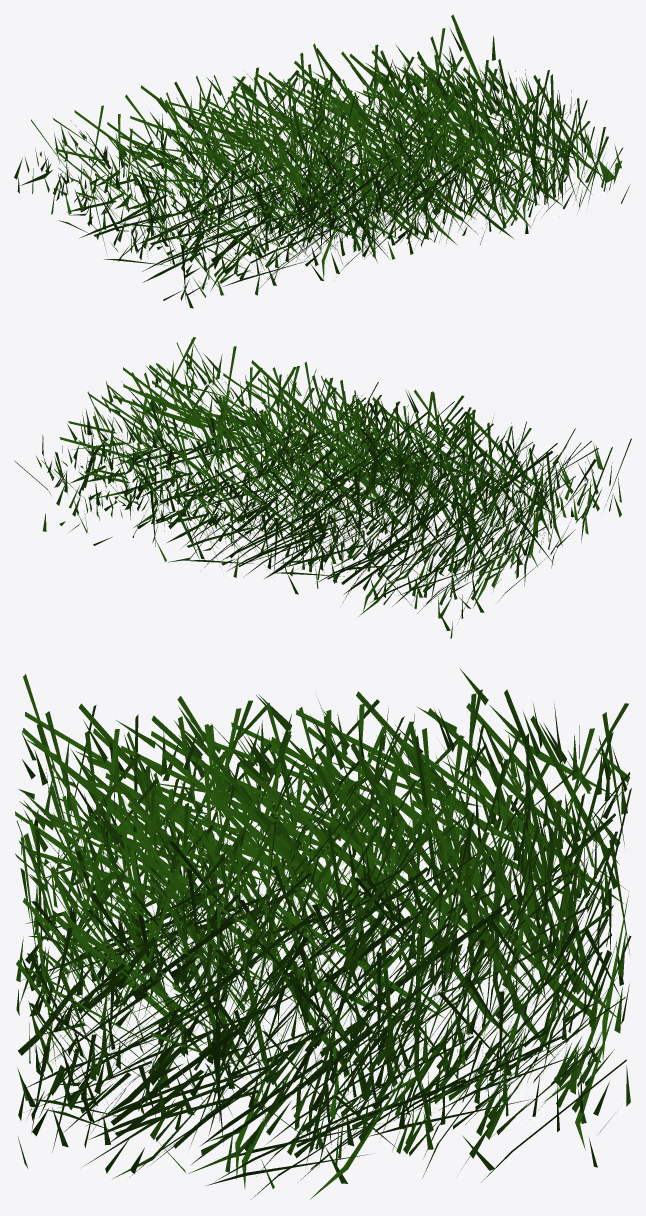
File: grass.DAE
The picture shows the model from 3 angles, top to bottom: view 1: azimuth 30°, elevation 25°; view 2: azimuth 150°, elevation 25°; view 3: azimuth 270°, elevation 25°; orthographic projection. The views are drawn at different scales.
Visible parts, largest first — view 1: weed14.weed17; view 2: weed14.weed17; view 3: weed14.weed17.
Boxes of the visible parts, <box> form: weed14.weed17: <box>14,14,630,308</box>; weed14.weed17: <box>14,337,631,638</box>; weed14.weed17: <box>15,669,631,1199</box>.
Size of the model in its own units: 6.2 by 0.9617 by 4.01.
